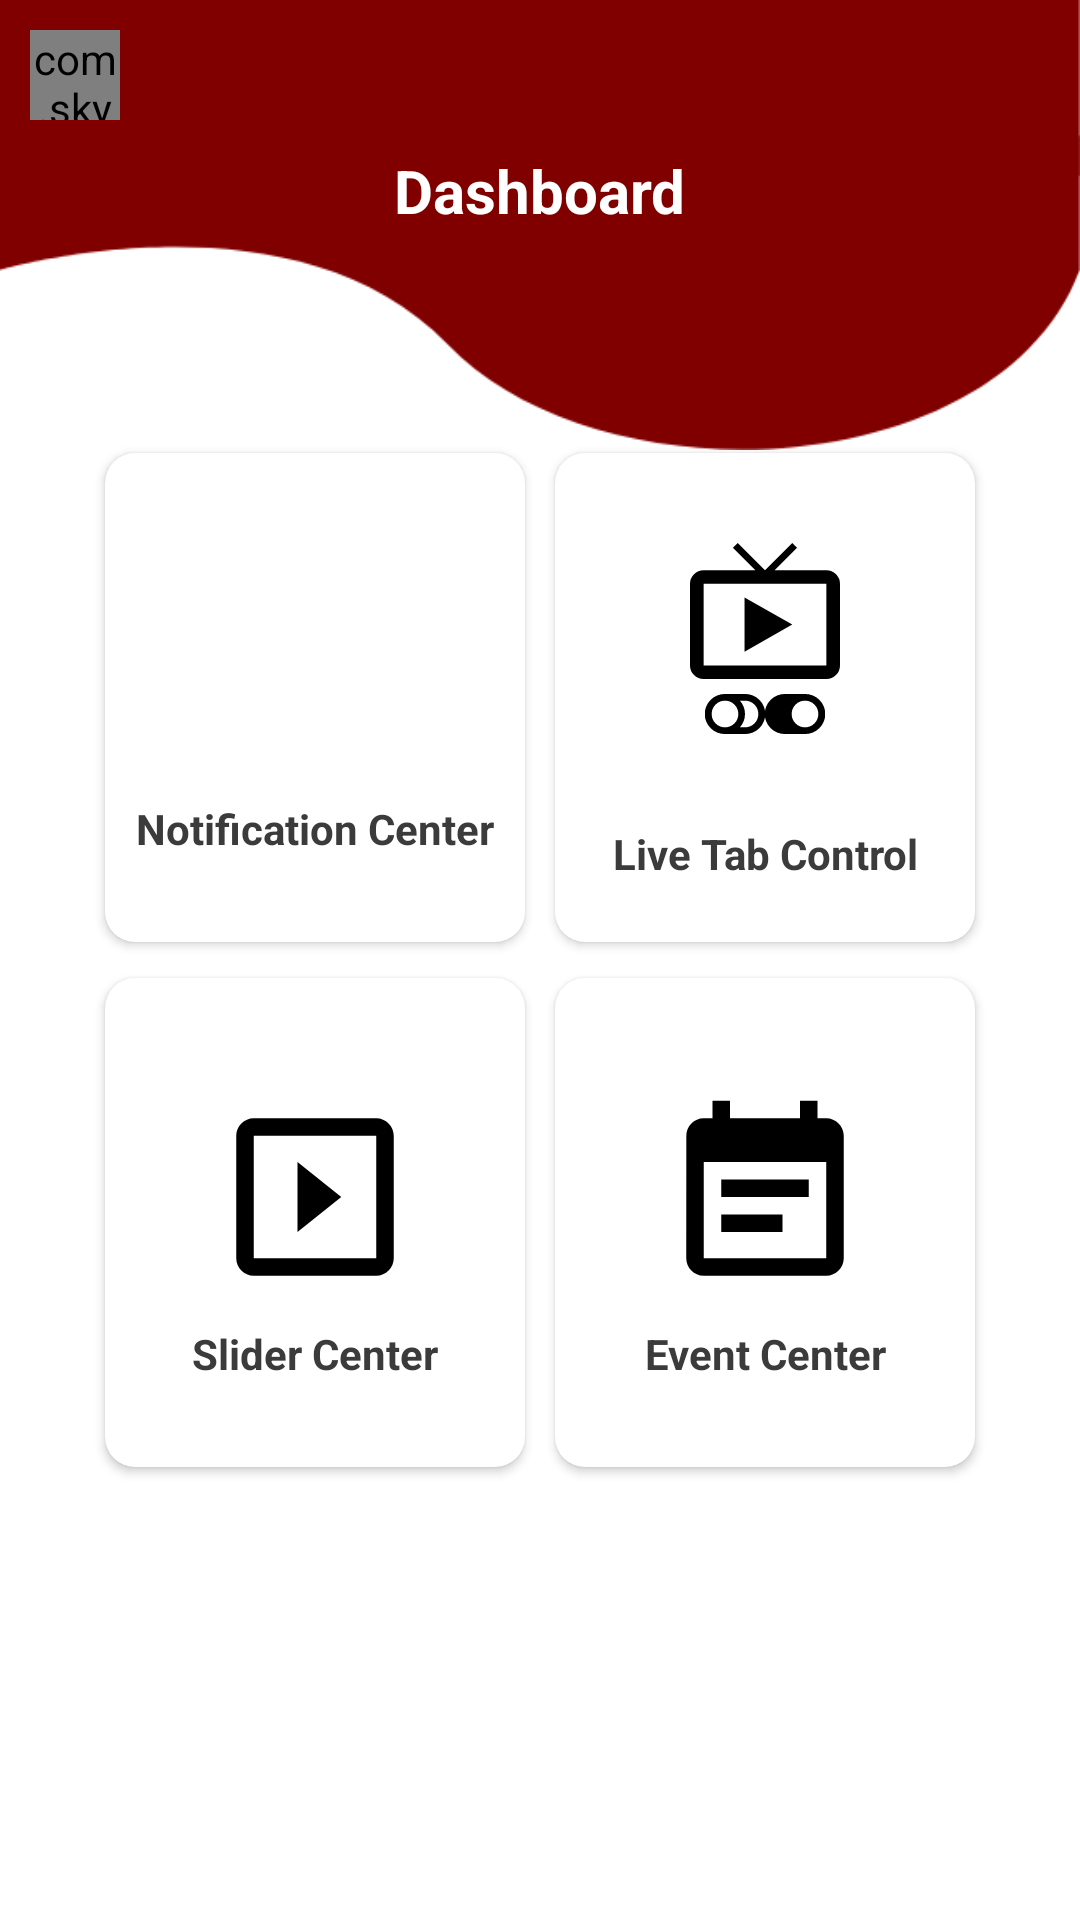

Screen size 1080w x 1920h. Icon name, then its center in pixels as [x,y]:
event note: [765,1188]
slideshow: [315,1197]
